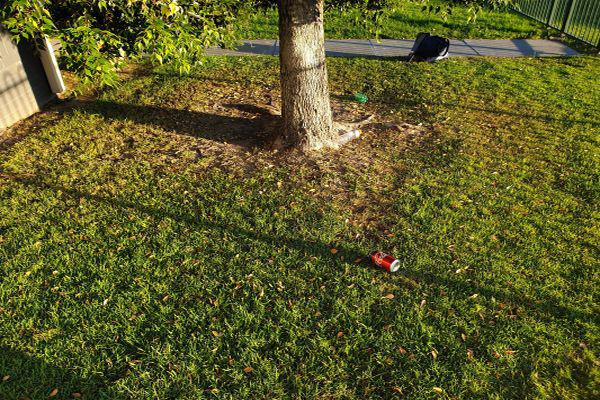Plastic Bottle: (369, 250, 401, 273), (352, 92, 368, 103)
